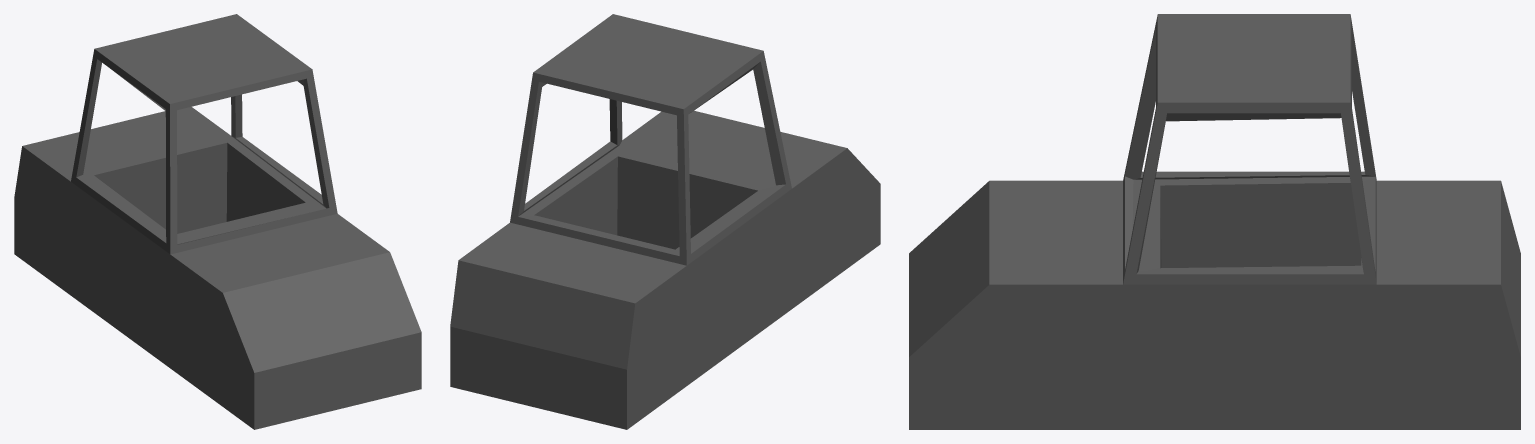
File: vehicle1.glb
The picture shows the model from 3 angles, left to right: view 1: azimuth 30°, elevation 25°; view 2: azimuth 150°, elevation 25°; view 3: azimuth 270°, elevation 25°; orthographic projection. The views are drawn at different scales.
Size of the model in its own units: 3.07 by 4.41 by 7.63.
Materials: 1 (1 with a texture image).
